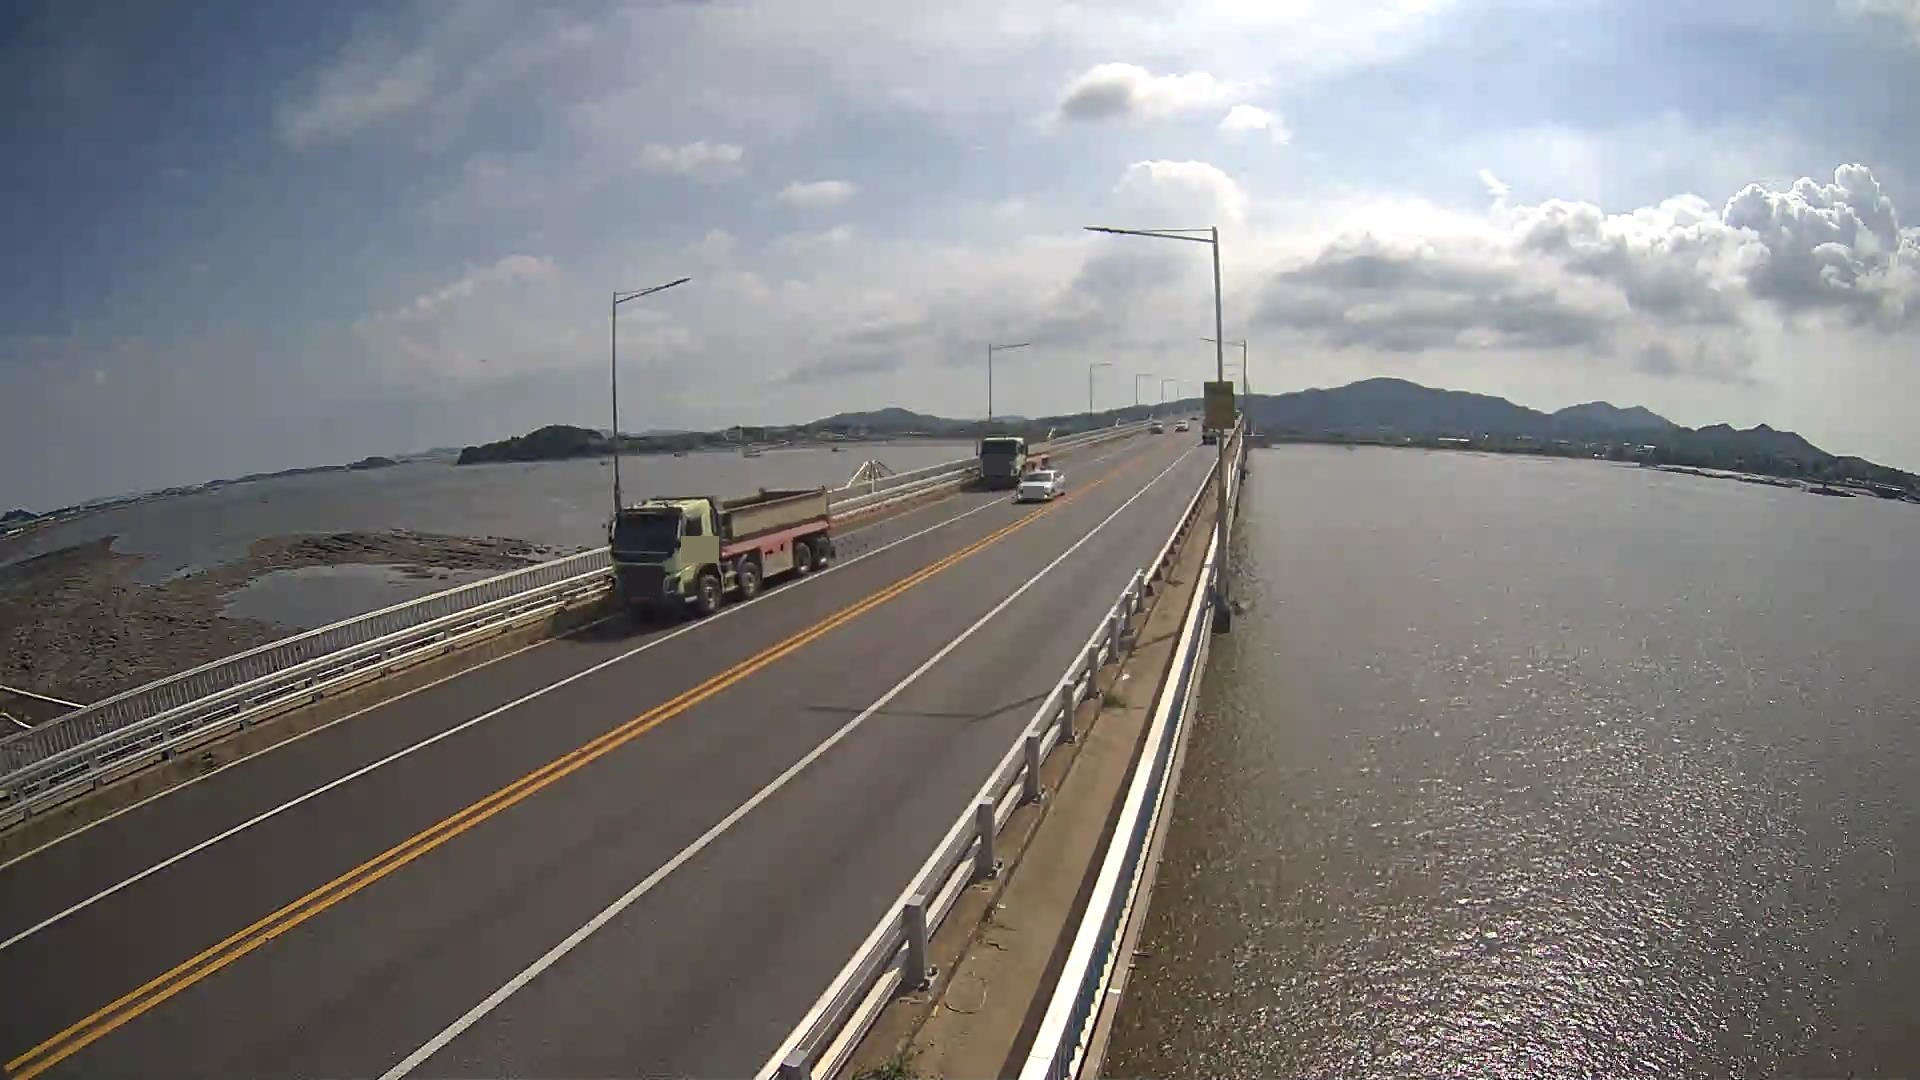정상차량: (601, 484, 832, 615)
